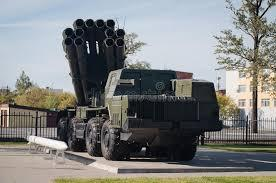MIL_SAM_TEL: (53, 18, 221, 159)
